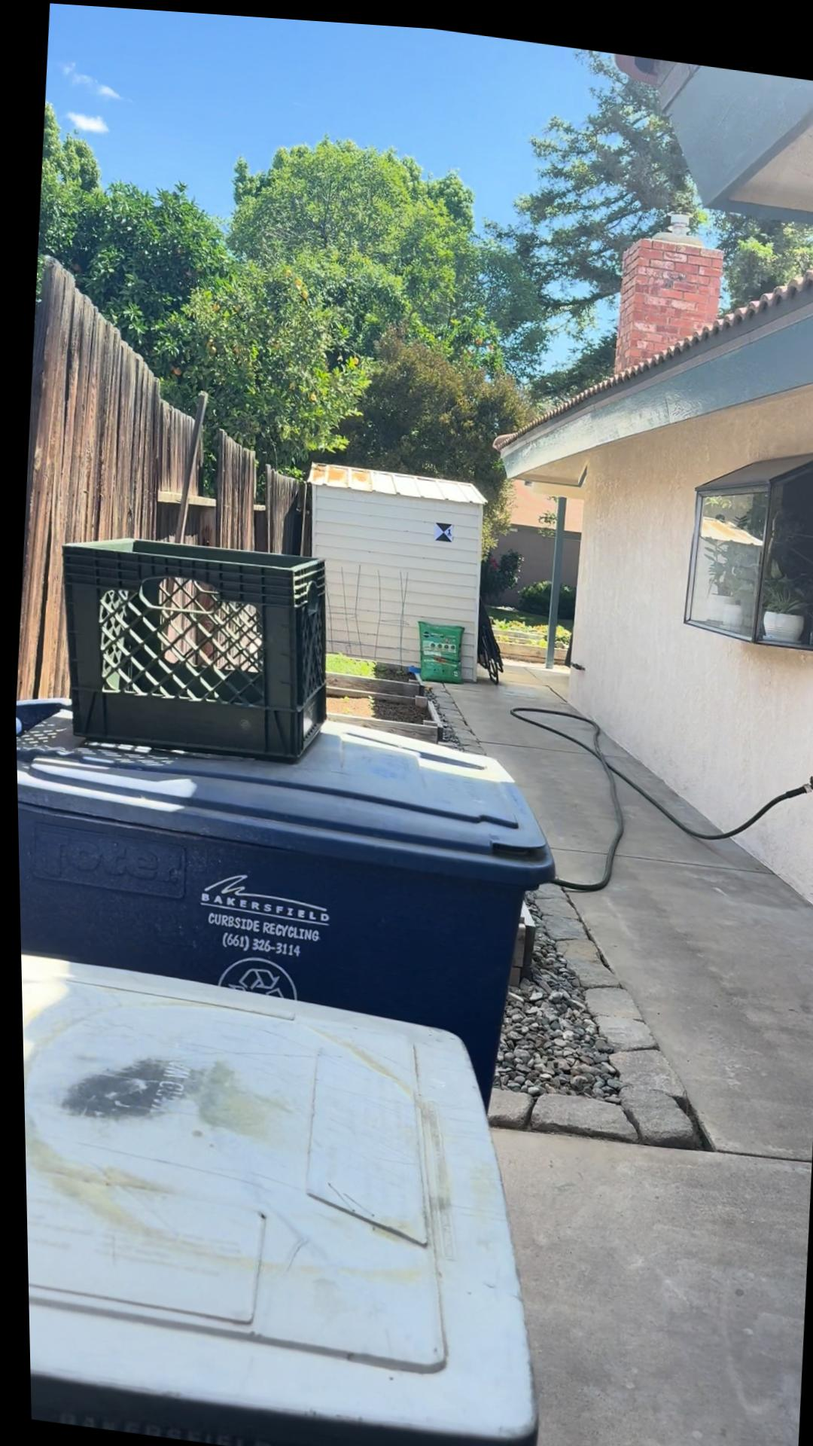target1: (431, 520, 457, 546)
